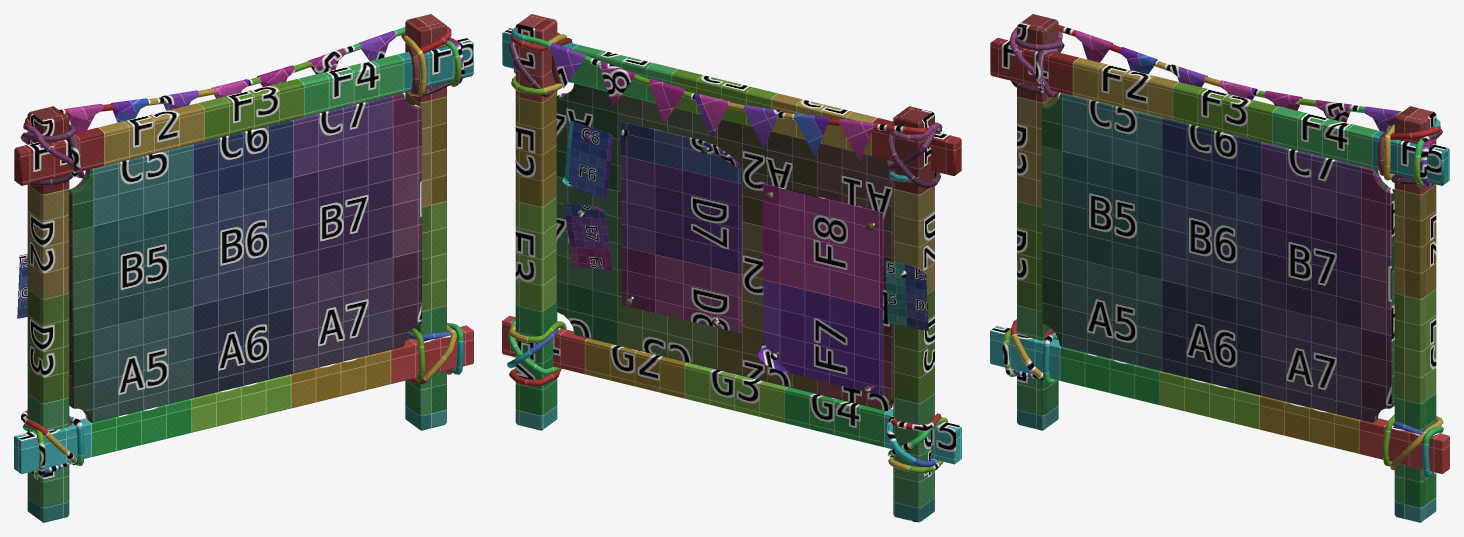
Rendered from notice-board.fbx.
The picture shows the model from 3 angles, left to right: view 1: azimuth 30°, elevation 25°; view 2: azimuth 150°, elevation 25°; view 3: azimuth 330°, elevation 25°; orthographic projection.
Parts seen in each view (by area): view 1: Cube, Cube.003, Cube.004, Cube.002, Cube.001, Cube.003_Curve.001, Plane.007, Plane.008, Plane.011, Plane.006, Plane.009; view 2: Cube, Plane.001, Plane, Cube.001, Cube.004, Cube.002, Cube.003, Cube.003_Curve.001, Plane.002, Plane.003, Plane.011, Plane.008 (+6 smaller); view 3: Cube, Cube.003, Cube.004, Cube.001, Cube.002, Cube.003_Curve.001, Plane.007, Plane.006, Plane.008, Plane.009.
Boxes of the visible parts, <box> form: Cube: <box>69,93,421,422</box>; Cube.003: <box>14,37,473,185</box>; Cube.004: <box>14,325,473,474</box>; Cube.002: <box>27,106,69,522</box>; Cube.001: <box>405,14,446,430</box>; Cube.003_Curve.001: <box>20,26,464,477</box>; Plane.007: <box>67,103,103,132</box>; Plane.008: <box>359,30,396,60</box>; Plane.011: <box>17,254,27,318</box>; Plane.006: <box>111,98,148,122</box>; Plane.009: <box>308,48,345,74</box>; Cube: <box>556,83,893,411</box>; Plane.001: <box>757,183,883,395</box>; Plane: <box>620,121,741,333</box>; Cube.001: <box>515,14,557,430</box>; Cube.004: <box>502,315,961,464</box>; Cube.002: <box>893,106,934,522</box>; Cube.003: <box>502,28,961,175</box>; Cube.003_Curve.001: <box>507,27,948,473</box>; Plane.002: <box>562,120,612,199</box>; Plane.003: <box>564,203,612,270</box>; Plane.011: <box>885,260,928,330</box>; Plane.008: <box>550,43,587,88</box>; Cube: <box>1042,93,1394,422</box>; Cube.003: <box>990,37,1449,185</box>; Cube.004: <box>990,325,1449,474</box>; Cube.001: <box>1394,106,1436,522</box>; Cube.002: <box>1017,14,1058,430</box>; Cube.003_Curve.001: <box>1002,25,1443,477</box>; Plane.007: <box>1075,30,1112,62</box>; Plane.006: <box>1119,47,1157,74</box>; Plane.008: <box>1363,106,1400,131</box>; Plane.009: <box>1314,100,1351,122</box>.
Size of the model in its own units: 5.19 by 0.6456 by 4.39.
